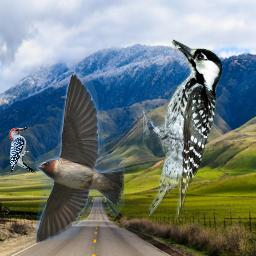Swallow: (35, 73, 125, 244)
Woodpecker: (143, 38, 222, 219), (7, 125, 38, 177)
